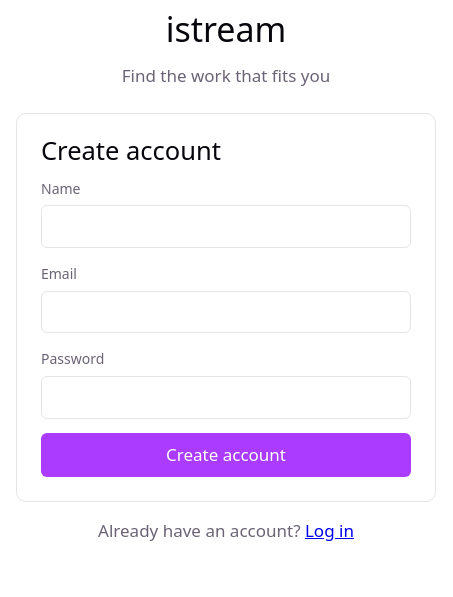
it: RegisterPage › shows the API error when the email is already registered
Type "Mohit" into the field labelled "Name". click: point(226, 227)
box: x1=41 y1=205 x2=411 y2=248
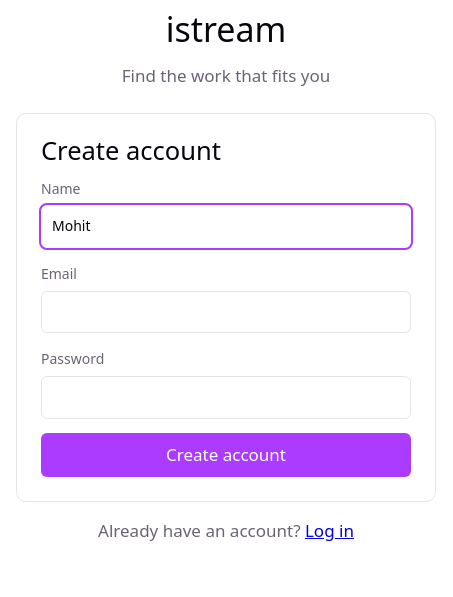
Type "mohit@example.com" into the field labelled "Email". click: point(226, 312)
box: x1=41 y1=291 x2=411 y2=333
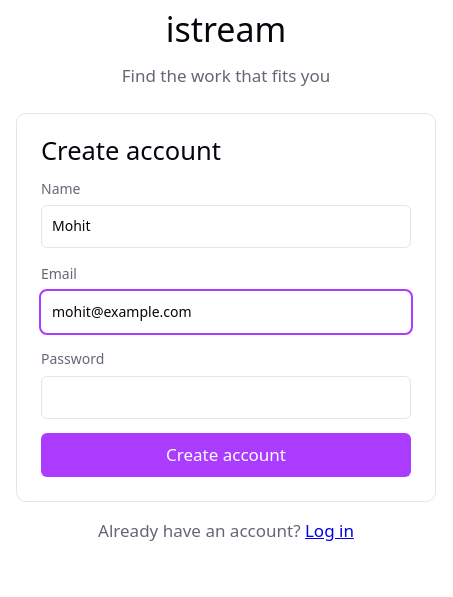
Type "supersecret1" into the password field labelled "Password". click: point(226, 397)
box: x1=41 y1=376 x2=411 y2=419
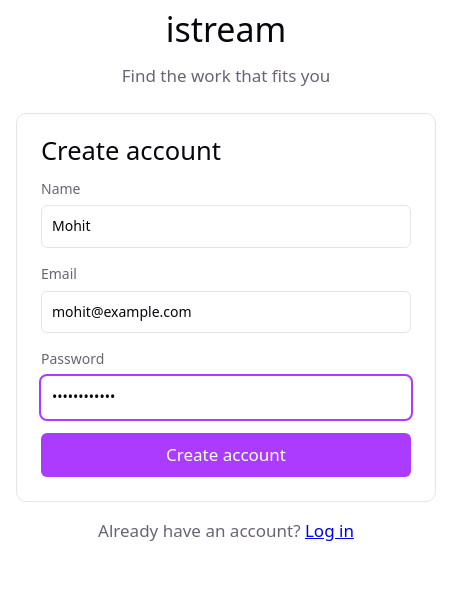
Click the button "Create account". click: point(226, 455)
box: x1=41 y1=433 x2=411 y2=477
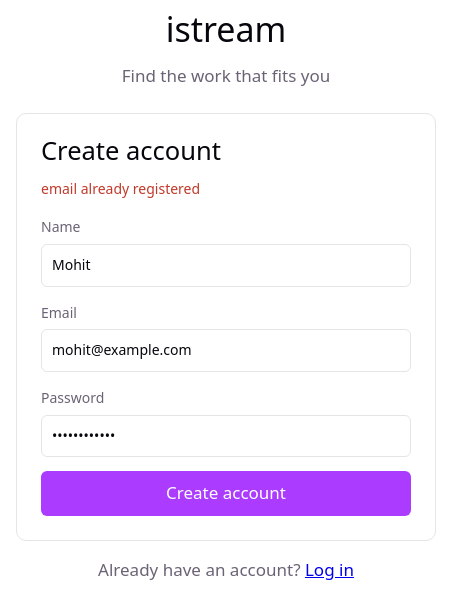
expect the message reads "email already registered": met, box x1=41 y1=179 x2=200 y2=198
